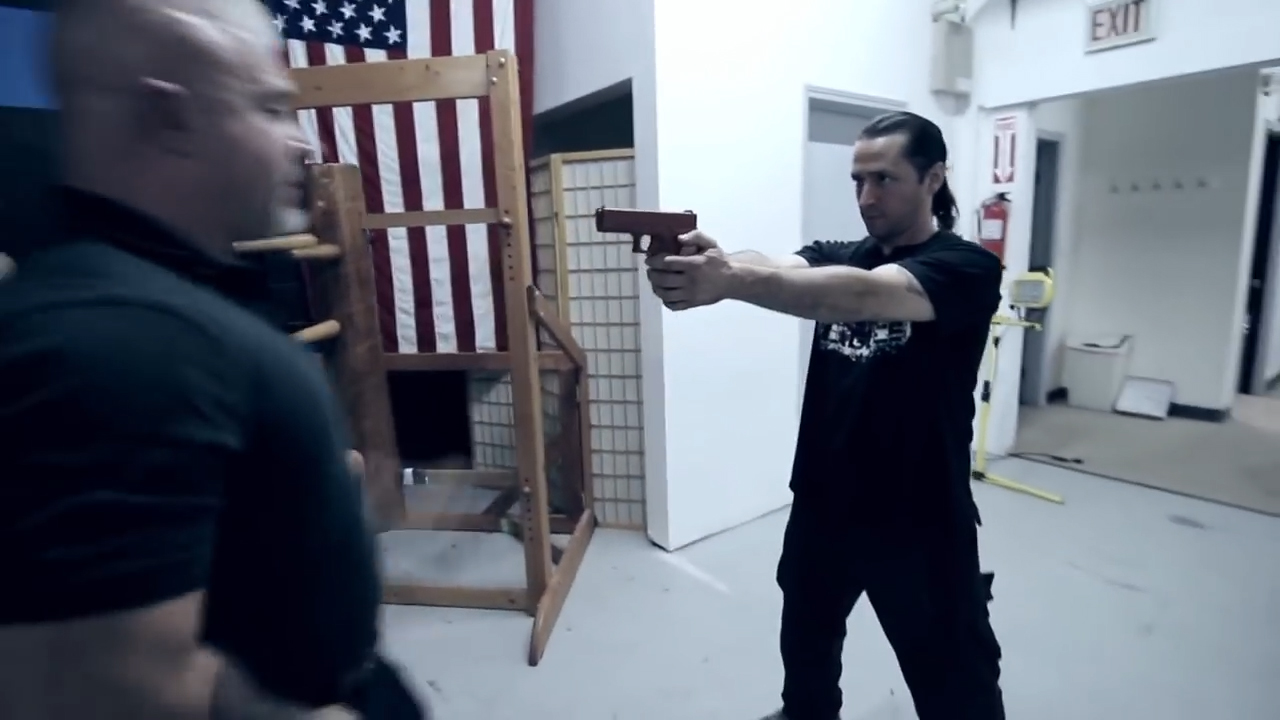pistol: (593, 205, 699, 260)
